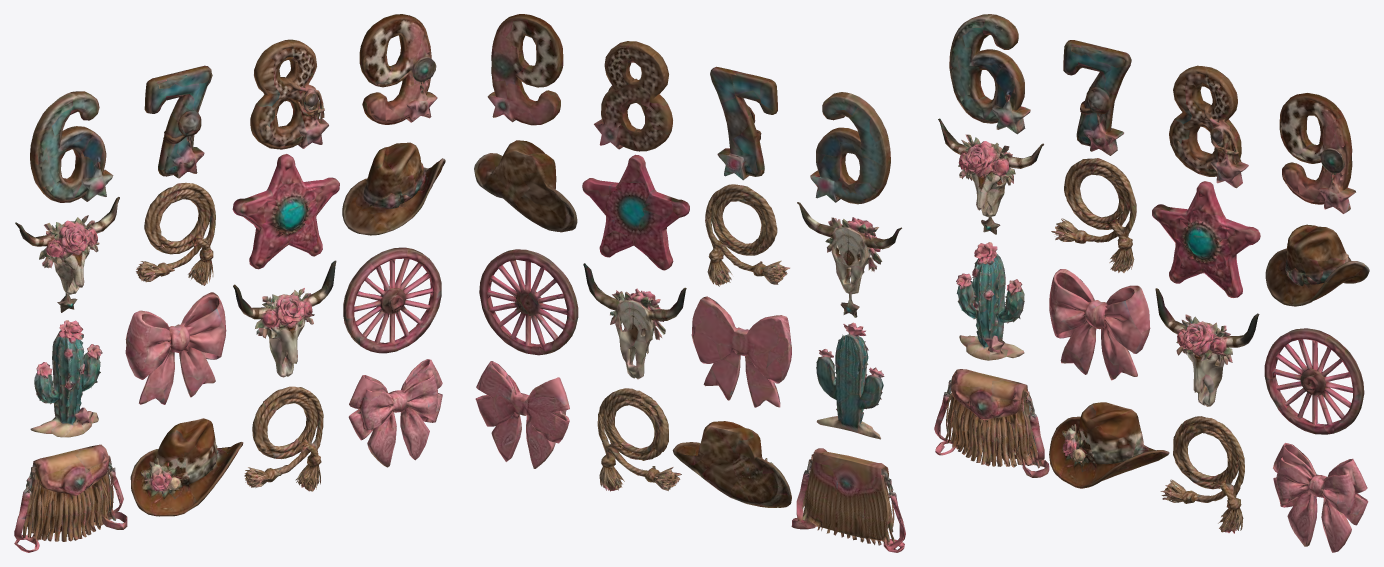
3 views of the same model, side by side, from view 1: azimuth 30°, elevation 25°; view 2: azimuth 150°, elevation 25°; view 3: azimuth 330°, elevation 25° (orthographic).
Parts seen in each view (by area): view 1: Mesh 1, Mesh 5, Mesh 6, Mesh 3, Mesh 17, Mesh 9, Mesh 15, Mesh 12, Mesh 16, Mesh 14, Mesh 4, Mesh 8 (+4 smaller); view 2: Mesh 1, Mesh 5, Mesh 3, Mesh 17, Mesh 9, Mesh 15, Mesh 12, Mesh 6, Mesh 16, Mesh 14, Mesh 4, Mesh 8 (+4 smaller); view 3: Mesh 1, Mesh 5, Mesh 6, Mesh 3, Mesh 17, Mesh 9, Mesh 12, Mesh 15, Mesh 16, Mesh 14, Mesh 4, Mesh 8 (+4 smaller).
Boxes of the visible parts, x1=… form: Mesh 1: x1=14, y1=444, x2=127, y2=552; Mesh 5: x1=125, y1=292, x2=226, y2=404; Mesh 6: x1=130, y1=418, x2=243, y2=516; Mesh 3: x1=30, y1=91, x2=113, y2=202; Mesh 17: x1=359, y1=14, x2=437, y2=124; Mesh 9: x1=232, y1=154, x2=339, y2=269; Mesh 15: x1=343, y1=247, x2=441, y2=353; Mesh 12: x1=250, y1=39, x2=328, y2=149; Mesh 16: x1=348, y1=359, x2=442, y2=467; Mesh 14: x1=342, y1=142, x2=445, y2=235; Mesh 4: x1=30, y1=320, x2=102, y2=437; Mesh 8: x1=144, y1=65, x2=212, y2=178; Mesh 1: x1=791, y1=448, x2=905, y2=552; Mesh 5: x1=691, y1=296, x2=791, y2=407; Mesh 3: x1=810, y1=92, x2=890, y2=204; Mesh 17: x1=487, y1=14, x2=563, y2=125; Mesh 9: x1=582, y1=154, x2=689, y2=270; Mesh 15: x1=479, y1=249, x2=578, y2=355; Mesh 12: x1=594, y1=41, x2=672, y2=151; Mesh 6: x1=672, y1=421, x2=791, y2=507; Mesh 16: x1=475, y1=361, x2=569, y2=468; Mesh 14: x1=474, y1=140, x2=577, y2=232; Mesh 4: x1=816, y1=322, x2=884, y2=439; Mesh 8: x1=710, y1=66, x2=777, y2=180; Mesh 1: x1=934, y1=369, x2=1049, y2=477; Mesh 5: x1=1049, y1=269, x2=1150, y2=380; Mesh 6: x1=1049, y1=402, x2=1169, y2=488; Mesh 3: x1=949, y1=14, x2=1030, y2=134; Mesh 17: x1=1279, y1=93, x2=1355, y2=213; Mesh 9: x1=1152, y1=181, x2=1260, y2=297; Mesh 12: x1=1169, y1=65, x2=1248, y2=188; Mesh 15: x1=1264, y1=328, x2=1364, y2=434; Mesh 16: x1=1273, y1=443, x2=1368, y2=552; Mesh 14: x1=1265, y1=224, x2=1369, y2=306; Mesh 4: x1=956, y1=242, x2=1024, y2=360; Mesh 8: x1=1063, y1=40, x2=1131, y2=155.
Bounding box in the file's own units: 1.87 × 1.89 × 0.1607.
Materials: 16 (16 with a texture image).
